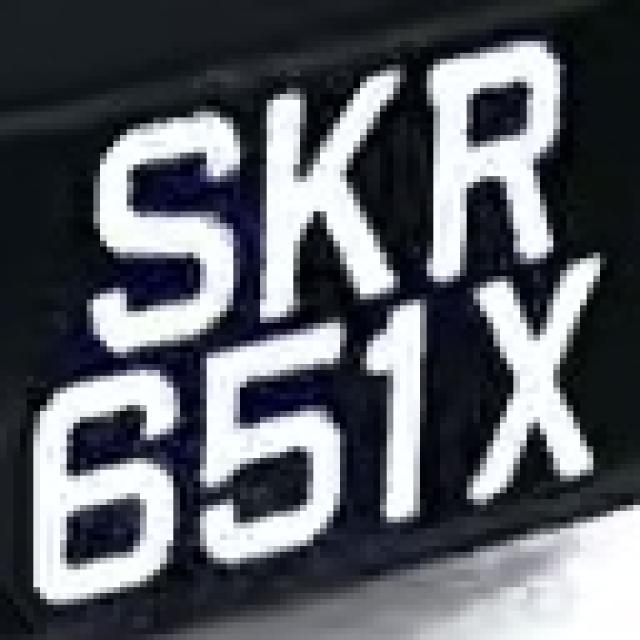1: (366, 282, 446, 552)
5: (174, 340, 354, 570)
6: (33, 364, 187, 617)
K: (234, 59, 414, 323)
R: (427, 18, 560, 282)
S: (80, 106, 233, 358)
X: (460, 252, 620, 528)
